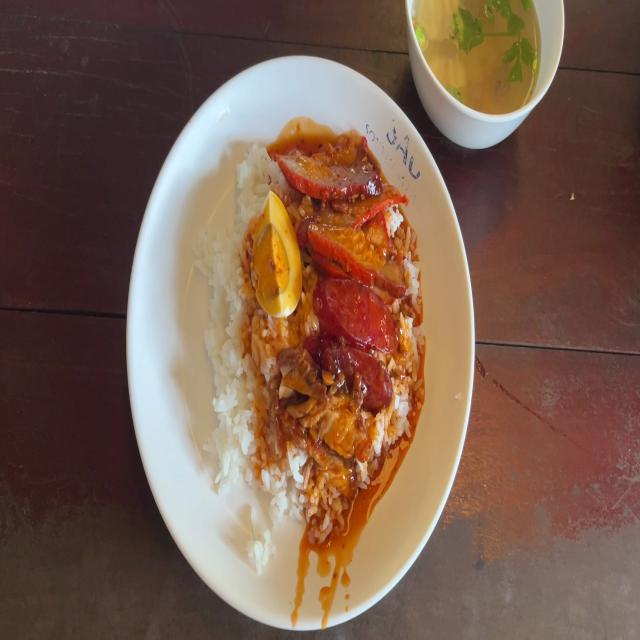01boiled_egg: (257, 194, 299, 319)
01chainese_sausage: (311, 284, 397, 400)
01crispy_pork: (276, 375, 366, 488)
01red_pork: (291, 146, 410, 281)
01red_pork_and_crispy_pork: (202, 150, 408, 538)
01rice: (216, 325, 280, 552), (206, 192, 259, 412), (236, 145, 288, 209)
